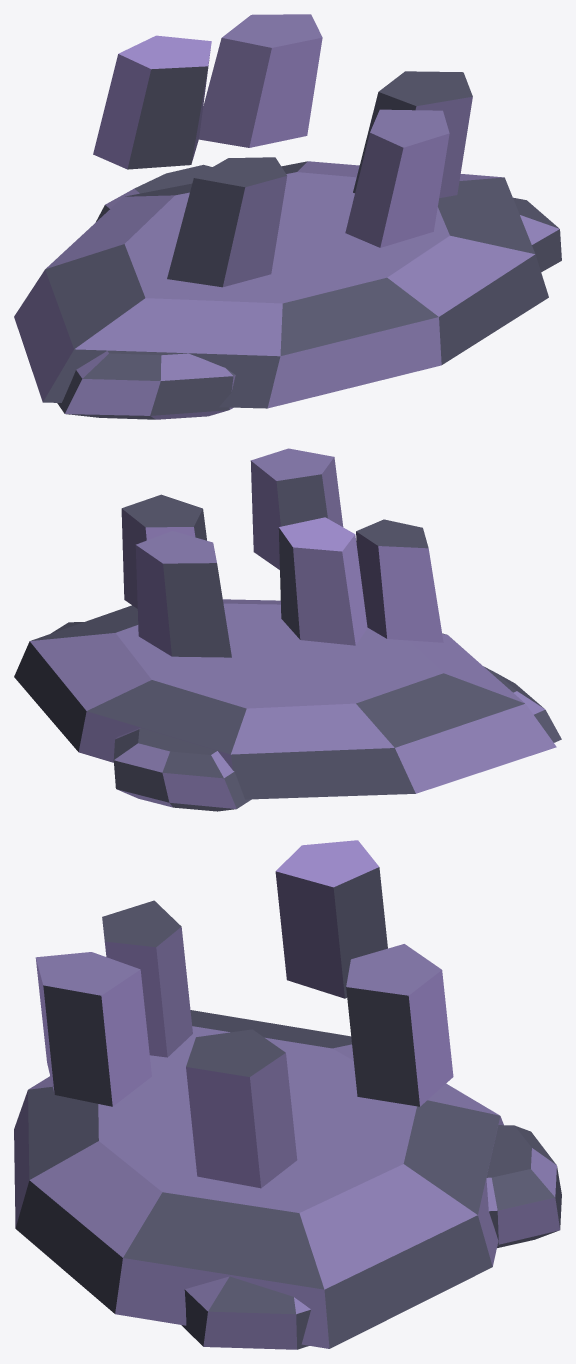
Rendered from BH_ORE_O19_Fragmento_Vazio_V01.glb.
3 views of the same model, one above another, from view 1: azimuth 30°, elevation 25°; view 2: azimuth 150°, elevation 25°; view 3: azimuth 270°, elevation 25° (orthographic). The views are drawn at different scales.
Parts seen in each view (by area): view 1: Bedrock | primary.001, Anomaly block 2.001, Anomaly block 3.001, Anomaly block 4.001, Anomaly block 5.001, Bedrock | shoulder 1.001, Anomaly block 1.001, Bedrock | shoulder 2.001, Bedrock | shoulder 3.001; view 2: Bedrock | primary.001, Anomaly block 2.001, Anomaly block 3.001, Anomaly block 4.001, Bedrock | shoulder 3.001, Anomaly block 5.001, Anomaly block 1.001, Bedrock | shoulder 1.001; view 3: Bedrock | primary.001, Anomaly block 5.001, Anomaly block 1.001, Anomaly block 2.001, Anomaly block 3.001, Anomaly block 4.001, Bedrock | shoulder 2.001, Bedrock | shoulder 3.001.
Part boxes in pixels (<box>): Bedrock | primary.001: <box>14,161,548,408</box>; Anomaly block 2.001: <box>199,14,322,147</box>; Anomaly block 3.001: <box>93,35,211,169</box>; Anomaly block 4.001: <box>167,157,287,287</box>; Anomaly block 5.001: <box>345,109,449,247</box>; Bedrock | shoulder 1.001: <box>57,350,235,419</box>; Anomaly block 1.001: <box>353,71,472,197</box>; Bedrock | shoulder 2.001: <box>513,197,561,272</box>; Bedrock | shoulder 3.001: <box>96,164,212,221</box>; Bedrock | primary.001: <box>14,599,556,799</box>; Anomaly block 2.001: <box>135,531,231,657</box>; Anomaly block 3.001: <box>278,517,367,645</box>; Anomaly block 4.001: <box>356,519,443,642</box>; Bedrock | shoulder 3.001: <box>113,728,251,811</box>; Anomaly block 5.001: <box>250,448,343,569</box>; Anomaly block 1.001: <box>121,494,206,608</box>; Bedrock | shoulder 1.001: <box>484,666,561,742</box>; Bedrock | primary.001: <box>14,1010,503,1348</box>; Anomaly block 5.001: <box>35,952,151,1106</box>; Anomaly block 1.001: <box>186,1029,297,1188</box>; Anomaly block 2.001: <box>346,944,453,1106</box>; Anomaly block 3.001: <box>275,840,387,998</box>; Anomaly block 4.001: <box>102,900,192,1057</box>; Bedrock | shoulder 2.001: <box>181,1276,310,1349</box>; Bedrock | shoulder 3.001: <box>486,1125,561,1247</box>.
Bounding box in the file's own units: 2.6 × 1.22 × 1.93.
